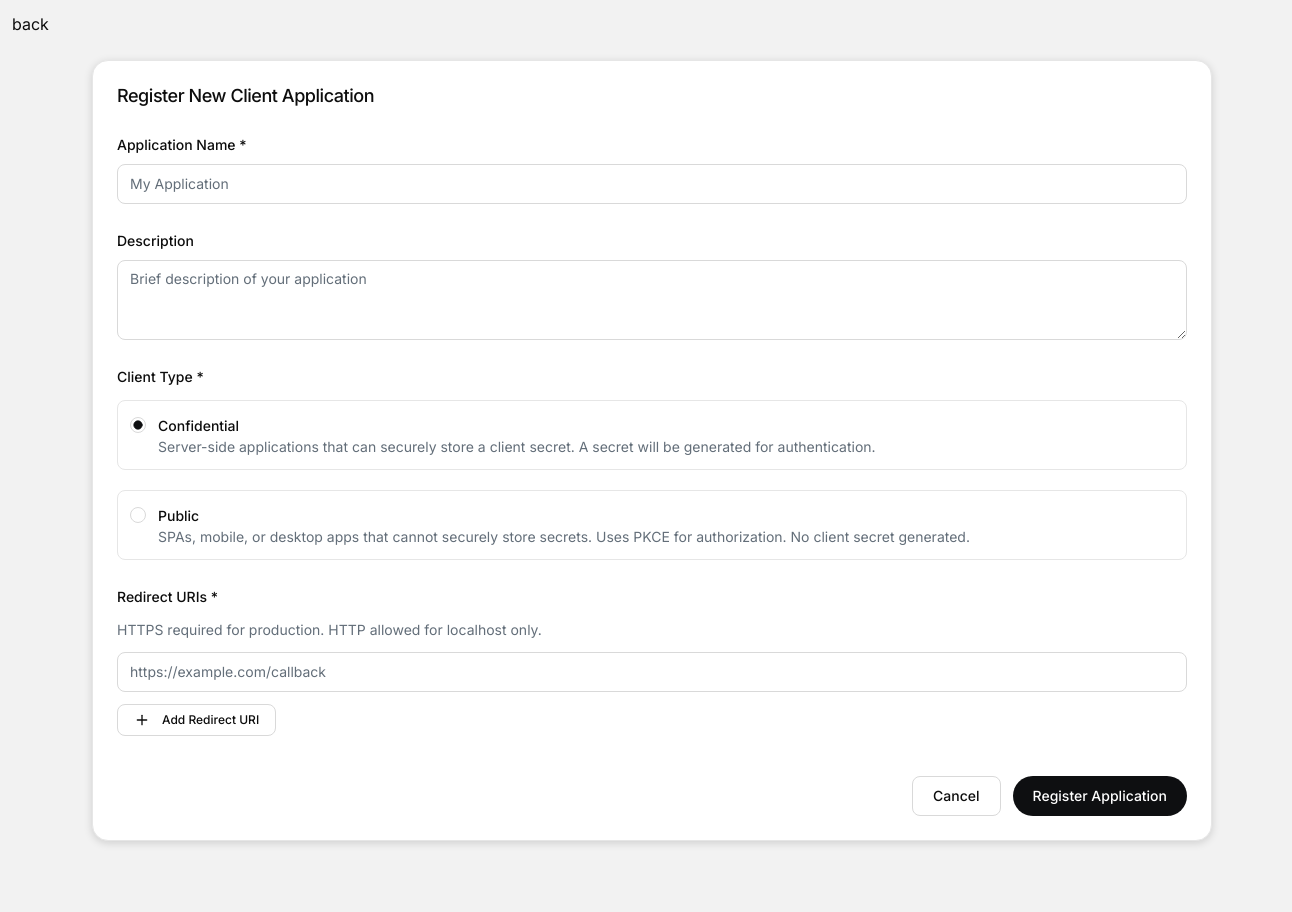
it: ClientManagementPage › returns to the list when the URL goes back to /dashboard/clients
Expected: the text "Register New Client Application" is shown, top-left (117, 85), bottom-right (374, 106)
Click the link "back". click: (30, 24)
box: top-left (12, 14), bottom-right (49, 34)
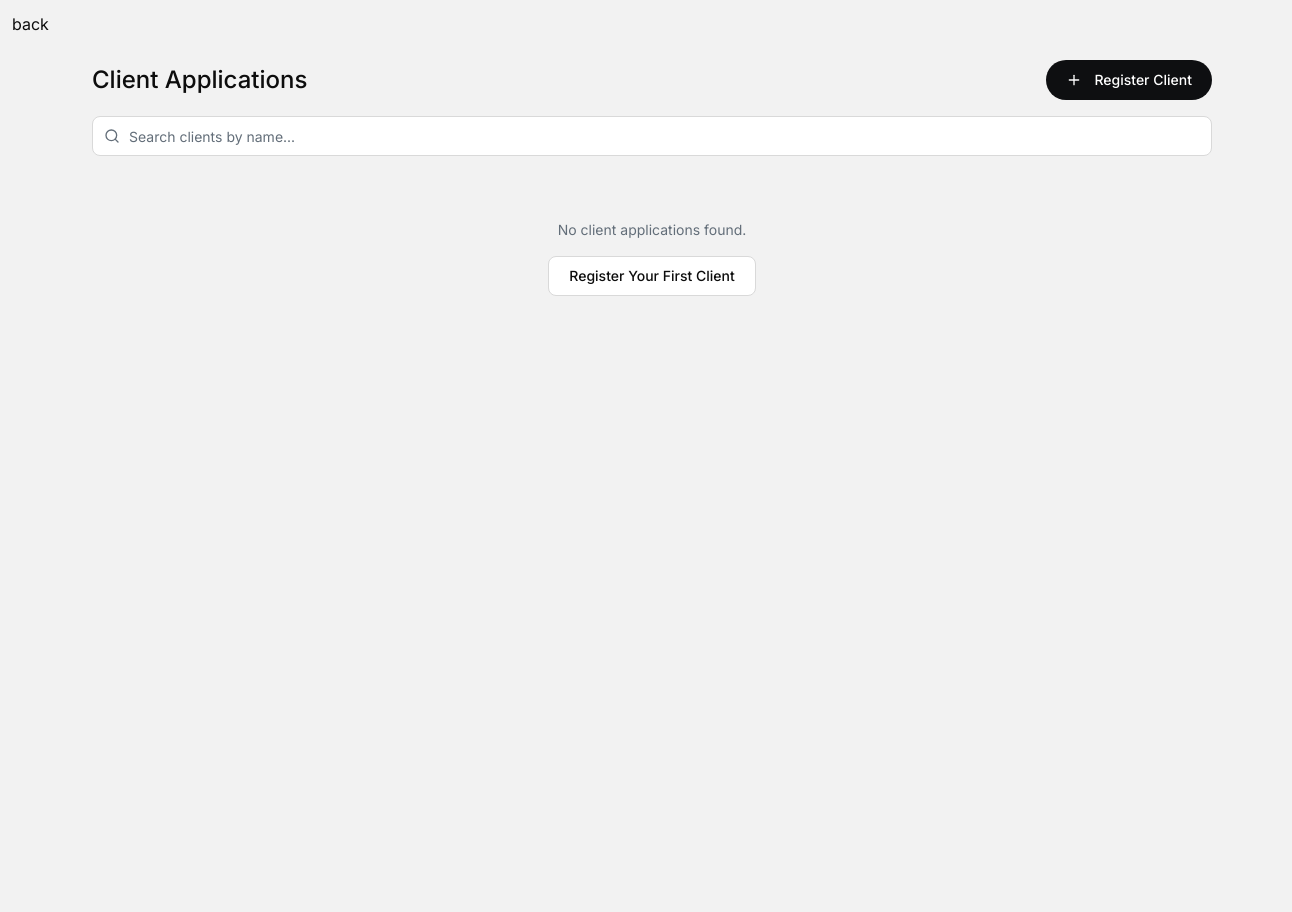
Expected: the heading "Client Applications" is shown, top-left (92, 64), bottom-right (307, 96)
Expected: the text "Register New Client Application" is gone
